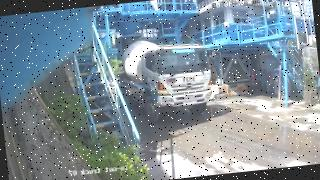cement_mixer_truck: (116, 40, 212, 122)
